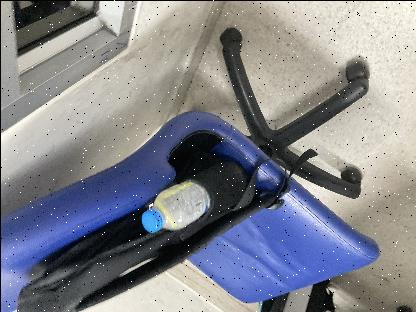Plastic Bottle: (136, 175, 212, 231)
